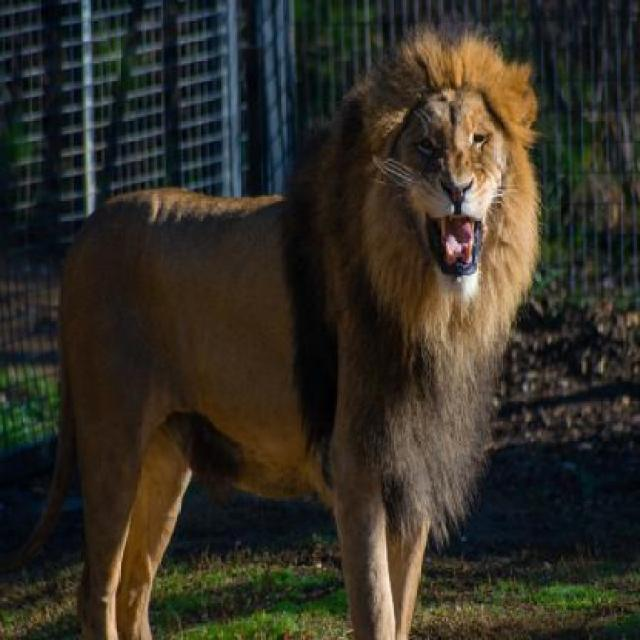Lion: (45, 21, 566, 638)
